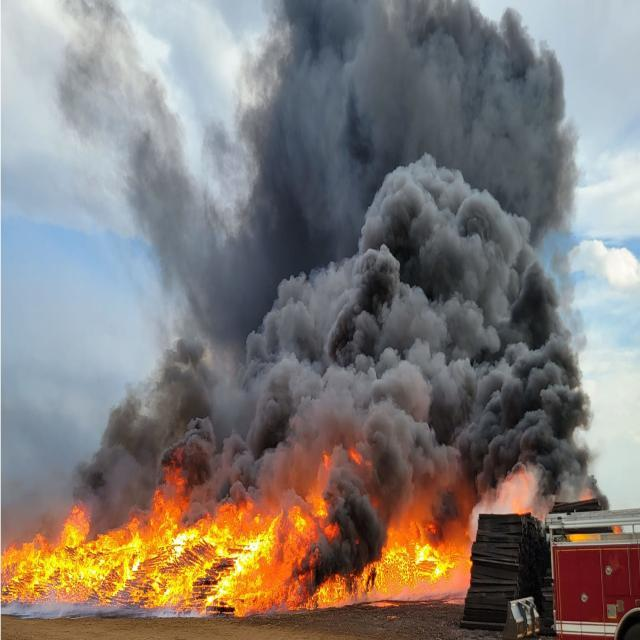Fire: (6, 486, 466, 620)
Smoke: (71, 0, 591, 487)
